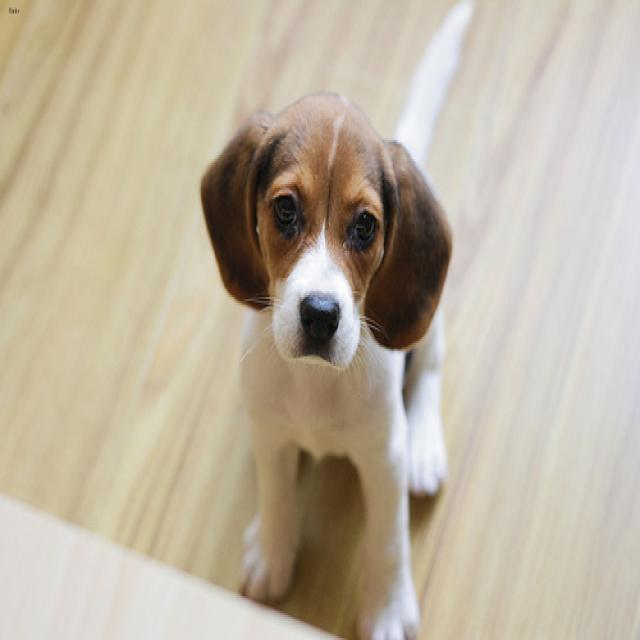dog-beagle: (195, 2, 480, 636)
